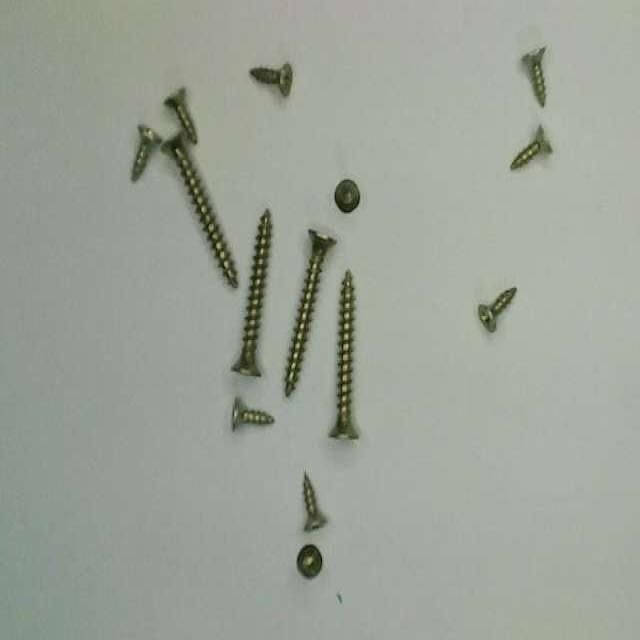Parafuso: (162, 133, 237, 287), (285, 231, 335, 396), (232, 209, 272, 376), (329, 271, 358, 439), (510, 125, 552, 169), (164, 88, 196, 143), (478, 288, 516, 332), (132, 125, 161, 180), (250, 63, 292, 96), (232, 397, 274, 429), (522, 47, 545, 105), (304, 473, 326, 531), (297, 545, 322, 577), (335, 180, 359, 212)
